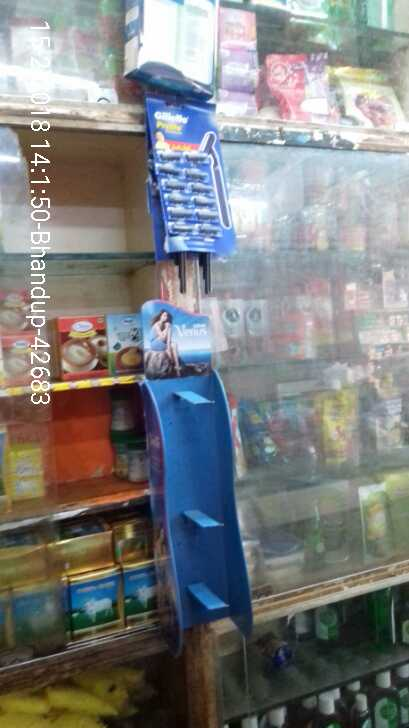beauty: (152, 140, 223, 252)
